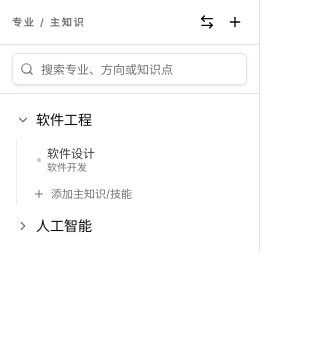
Test: MajorDirectionSidebar › allows expanding multiple majors independently
Click the button "人工智能" at (114, 226), box x1=8 y1=214 x2=221 y2=238
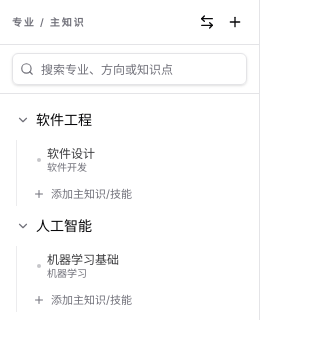
Expected: the text "软件设计" is shown, x1=47 y1=146 x2=95 y2=161
Result: the text "机器学习基础" is shown at x1=47 y1=252 x2=119 y2=267
